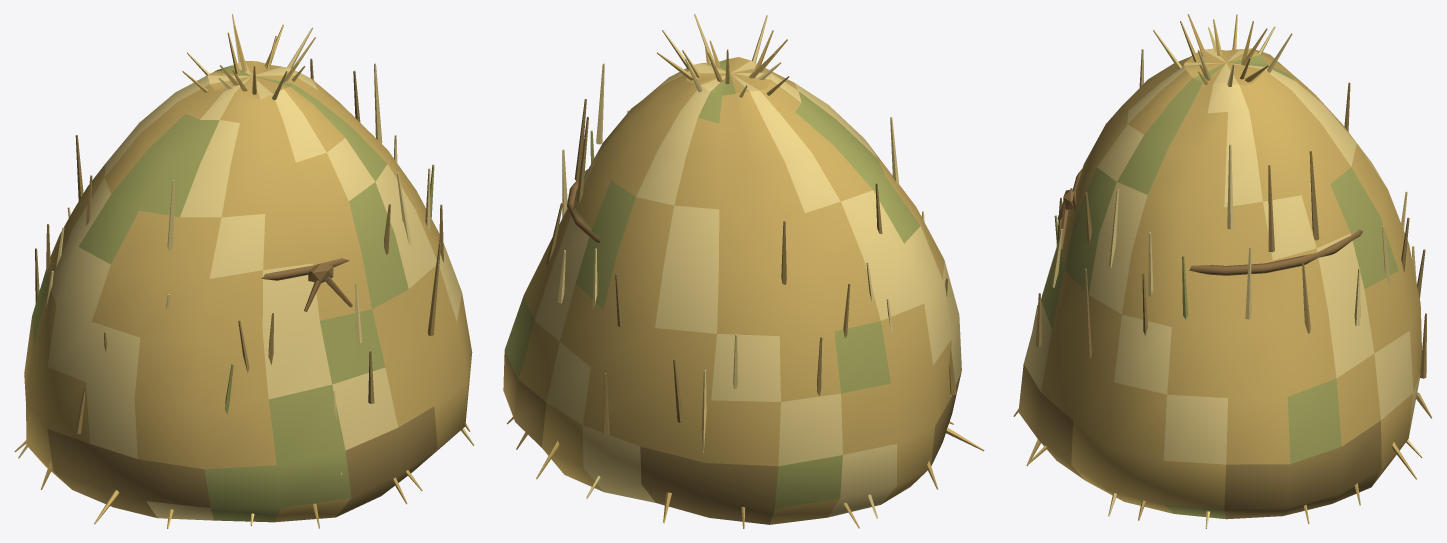
The model's file is haystack.glb.
3 renders of one model, left to right at view 1: azimuth 30°, elevation 25°; view 2: azimuth 150°, elevation 25°; view 3: azimuth 270°, elevation 25°, orthographic.
Parts seen in each view (by area): view 1: haystack; view 2: haystack; view 3: haystack.
Part boxes in pixels (x1,y1,x2,y2): haystack: (14,14,474,528); haystack: (503,14,984,528); haystack: (1013,14,1432,528).
Bounding box in the file's own units: 2.53 × 2.42 × 2.21.
